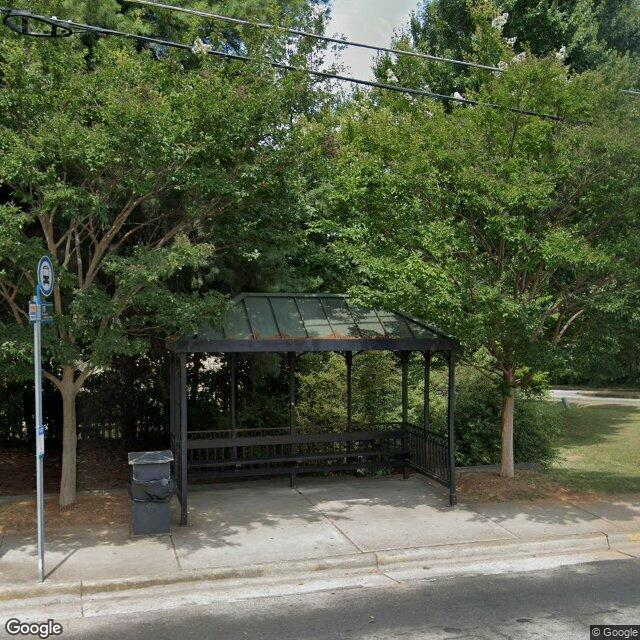seating: (187, 432, 413, 490)
shelter: (165, 292, 461, 526)
trash_can: (127, 449, 175, 536)
